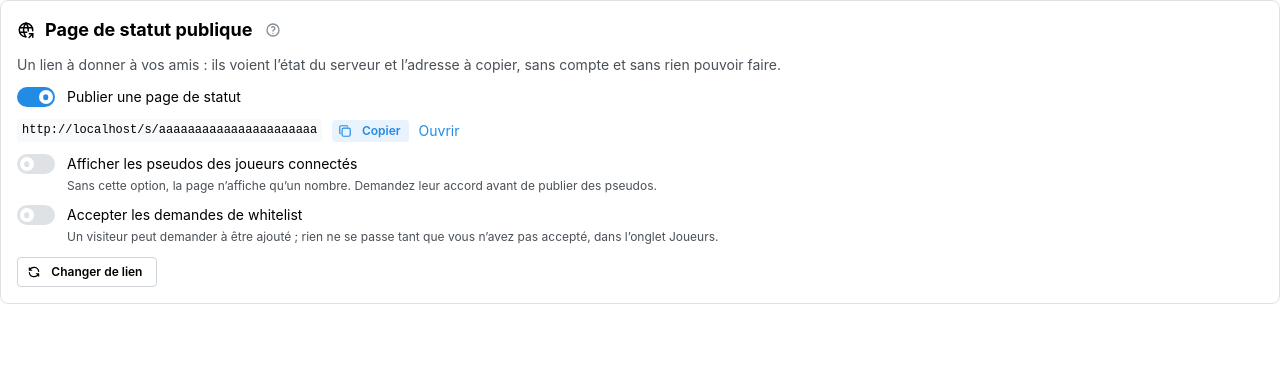
Scenario: StatusPageCard › changer de lien demande confirmation, puis remplace le lien affiché
The image size is (1280, 385).
Click the button with test id "status-page-rotate" at (87, 272), box [17,257,158,287]
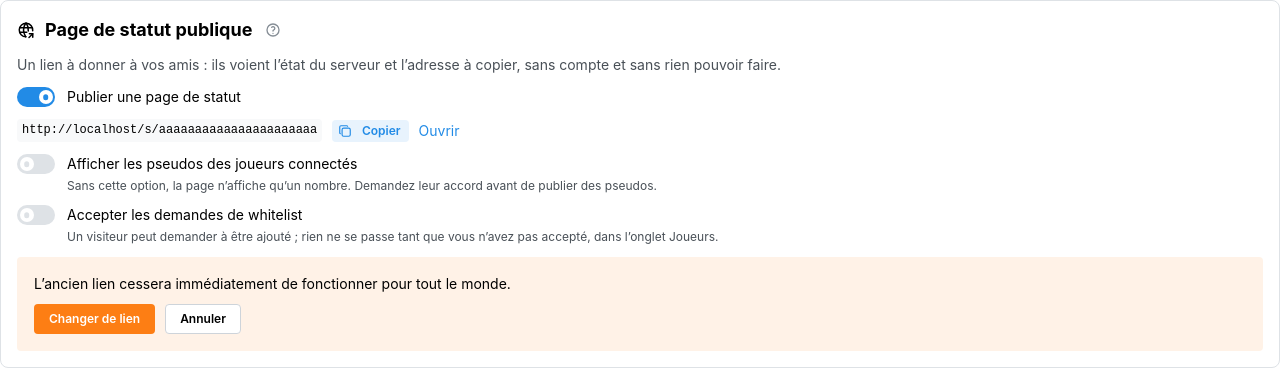
Result: the message with test id "status-page-rotate-confirm" is shown at [17,257,1263,351]
Click the button with test id "status-page-rotate-yes" at (95, 319), box [34,304,155,334]
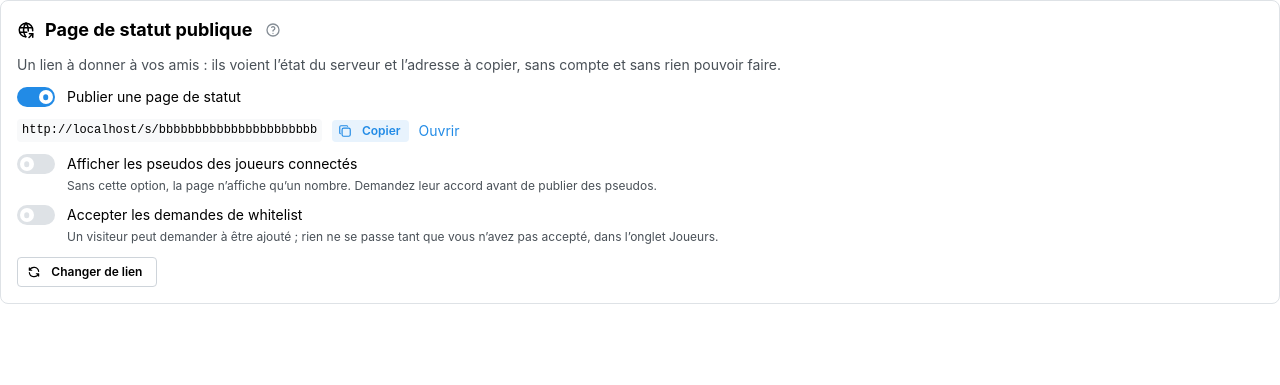
Result: the text with test id "status-page-link" shows "bbbbbbbbbbbbbbbbbbbbbb" at [22,123,317,137]
